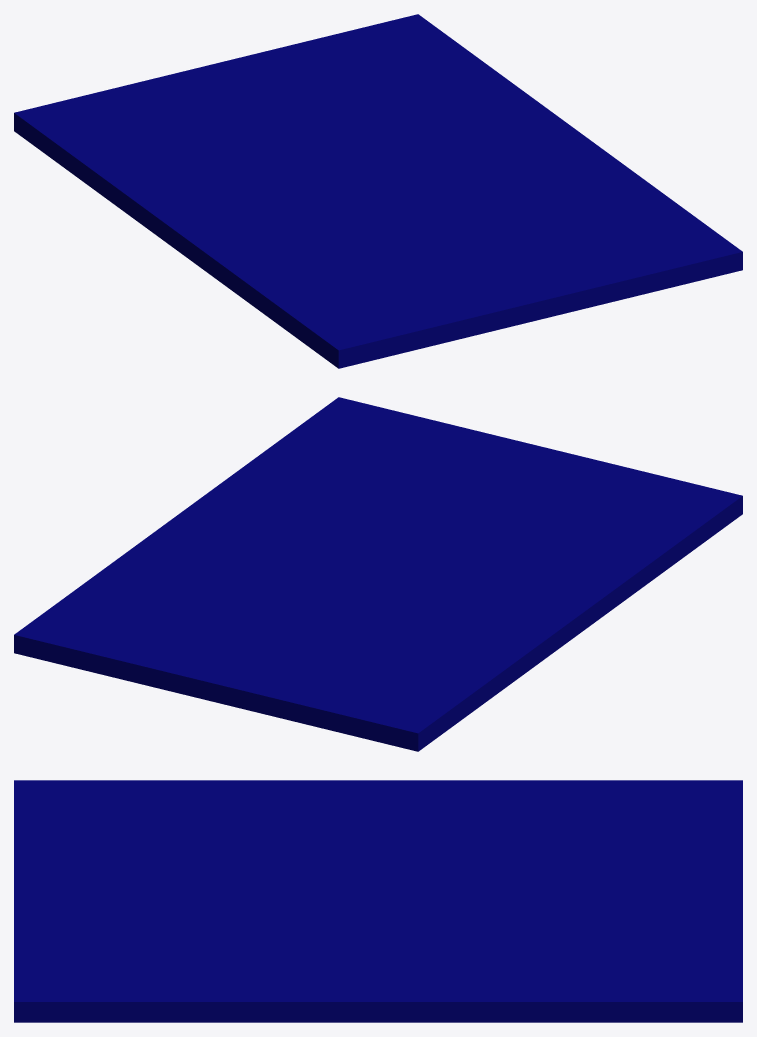
The picture shows the model from 3 angles, top to bottom: view 1: azimuth 30°, elevation 25°; view 2: azimuth 150°, elevation 25°; view 3: azimuth 270°, elevation 25°; orthographic projection. The views are drawn at different scales.
Parts seen in each view (by area): view 1: W1_Plafond_Sale_2_1; view 2: W1_Plafond_Sale_2_1; view 3: W1_Plafond_Sale_2_1.
Part boxes in pixels (<box>): W1_Plafond_Sale_2_1: <box>14,14,742,368</box>; W1_Plafond_Sale_2_1: <box>14,397,742,751</box>; W1_Plafond_Sale_2_1: <box>14,780,742,1022</box>.
Bounding box in the file's own units: 2300 × 100 × 3200.
